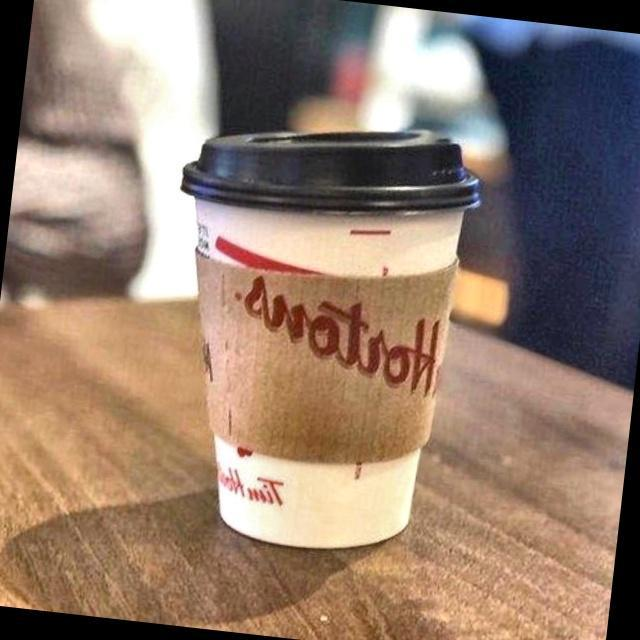timmies: (168, 95, 492, 568)
